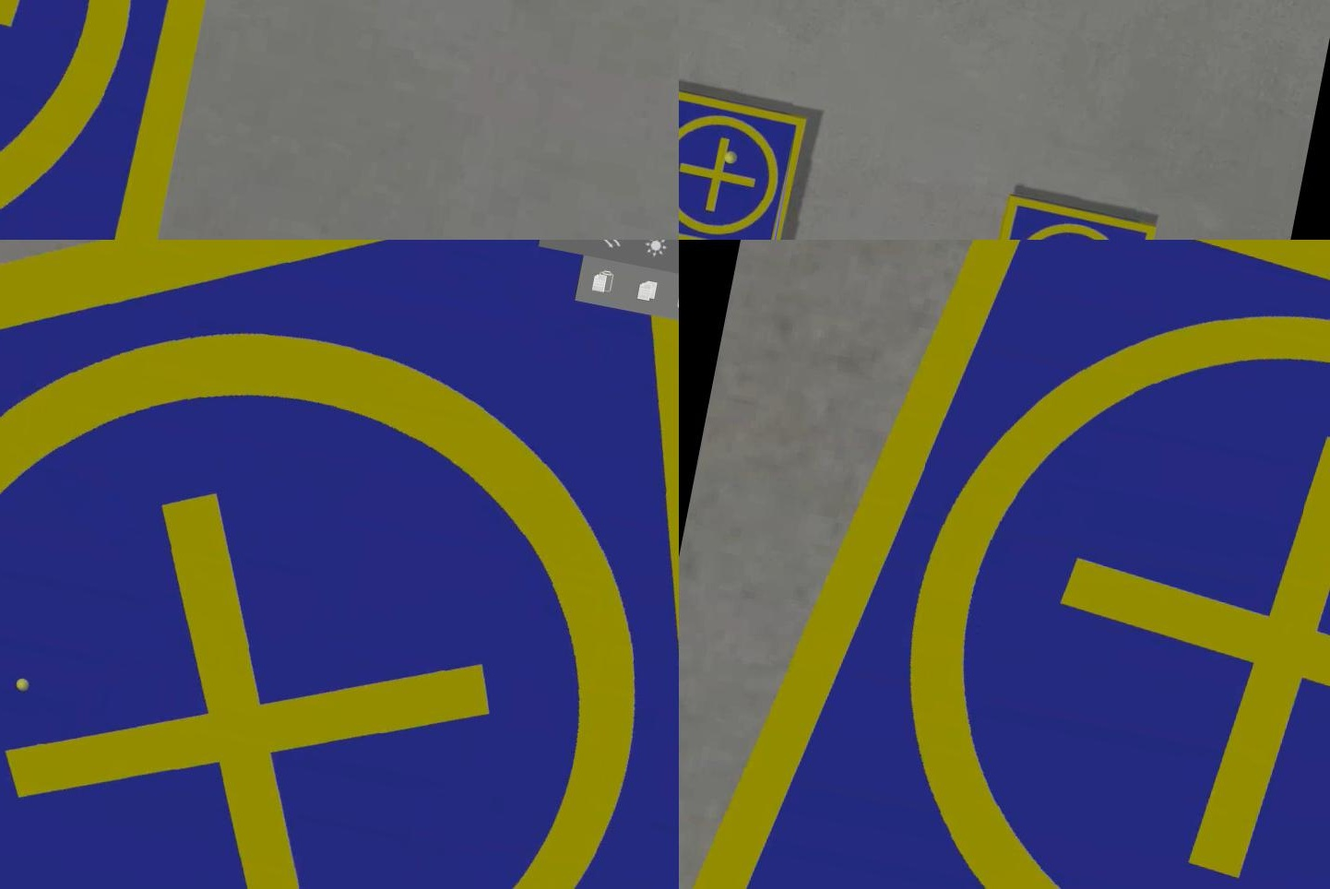small_base: (0, 240, 678, 889), (678, 240, 1328, 889), (0, 1, 259, 240), (678, 84, 807, 240), (974, 190, 1158, 240)
